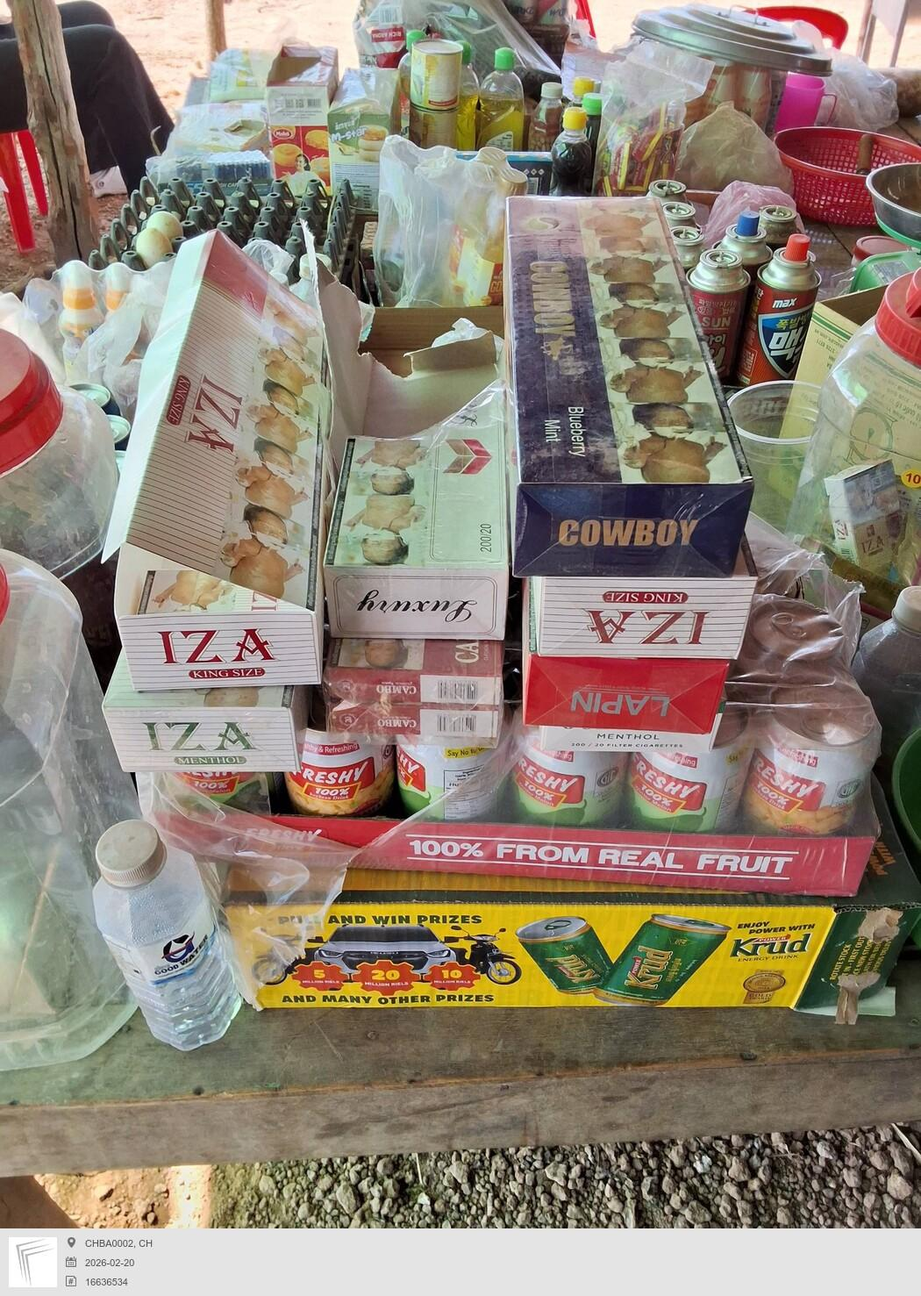cigarette_pack: (498, 190, 759, 569), (119, 215, 324, 686), (339, 292, 507, 652), (525, 651, 738, 745), (534, 579, 756, 661), (317, 651, 509, 742), (107, 690, 309, 772)
